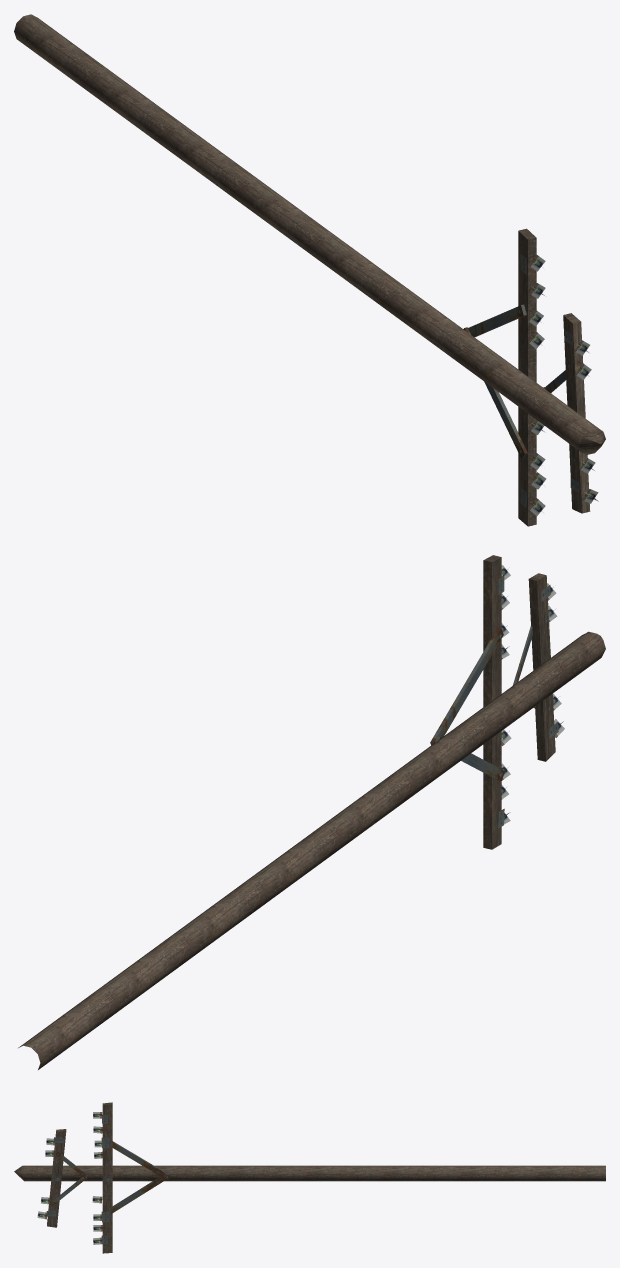
Rendered from powerpole01.glb.
3 views of the same model, one above another, from view 1: azimuth 30°, elevation 25°; view 2: azimuth 150°, elevation 25°; view 3: azimuth 270°, elevation 25° (orthographic). The views are drawn at different scales.
Size of the model in its own units: 15.1 by 110 by 398.
1 material, 1 textured.
